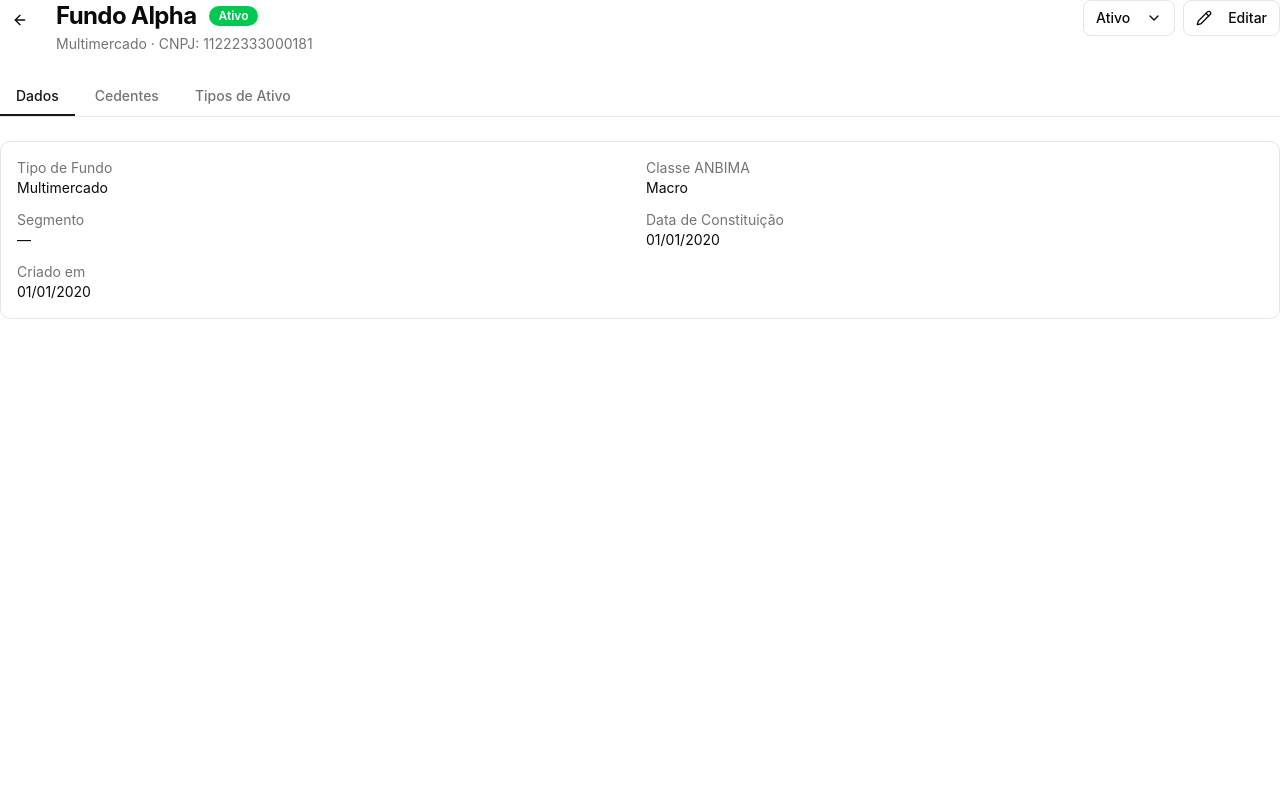
it: FundoDetailPage › opens edit dialog when Editar button clicked
Click the button with aria-label "editar fundo": coordinates (1232, 18) [1183,0,1279,36]
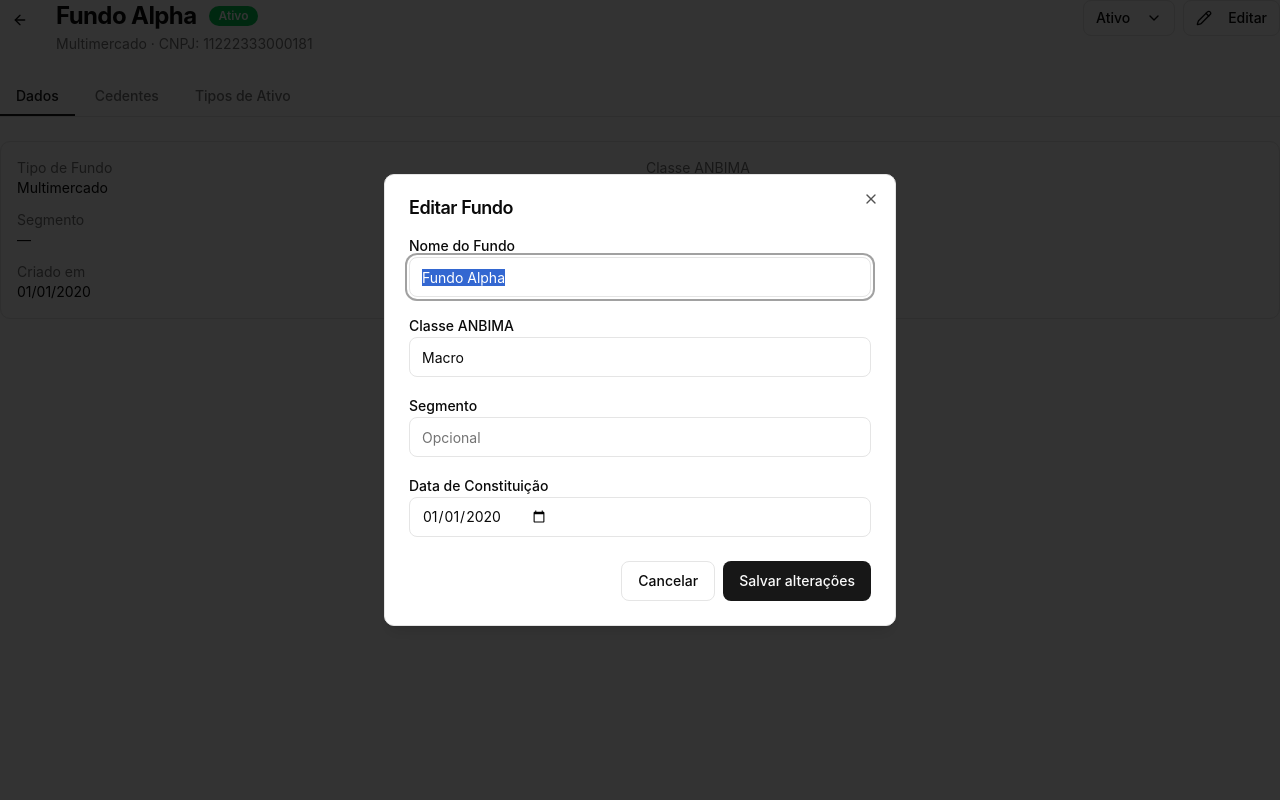
Check: the dialog is shown, box [384,174,896,626]
